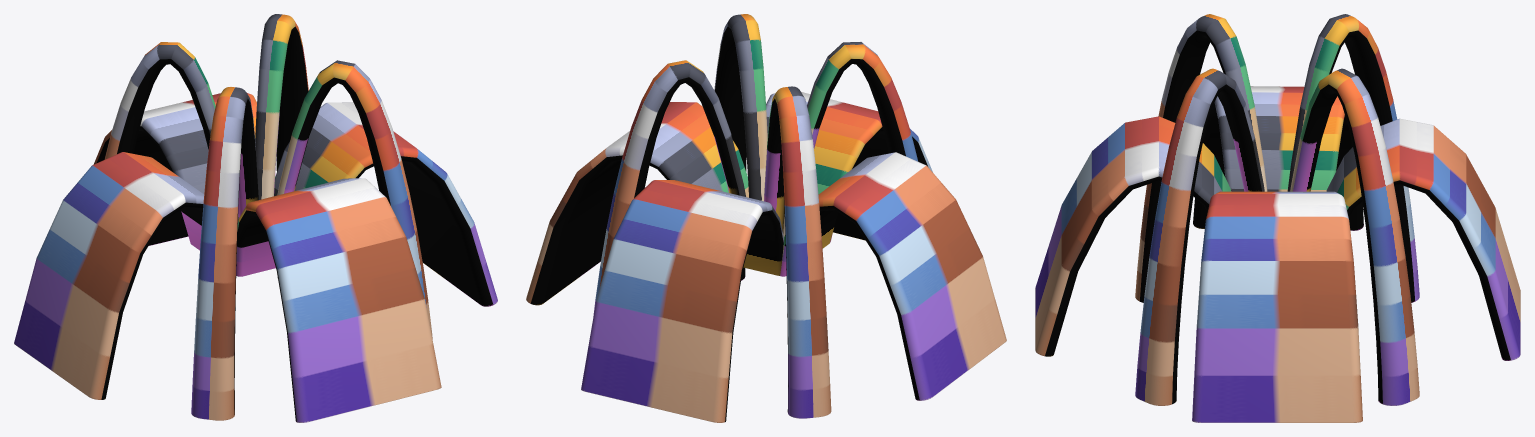
The model's file is fountainWater.fbx.
3 views of the same model, side by side, from view 1: azimuth 30°, elevation 25°; view 2: azimuth 150°, elevation 25°; view 3: azimuth 270°, elevation 25° (orthographic). The views are drawn at different scales.
Parts seen in each view (by area): view 1: fountainWater; view 2: fountainWater; view 3: fountainWater.
Boxes of the visible parts, x1,y1,x2,y2 form: fountainWater: [14, 14, 497, 422]; fountainWater: [526, 14, 1006, 422]; fountainWater: [1035, 14, 1520, 422].
Bounding box in the file's own units: 1.32 × 1.31 × 0.9026.
